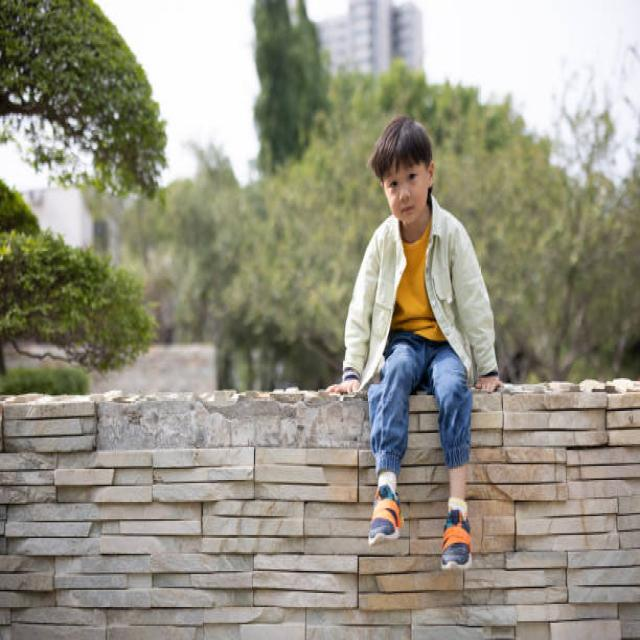sit: (335, 109, 497, 570)
